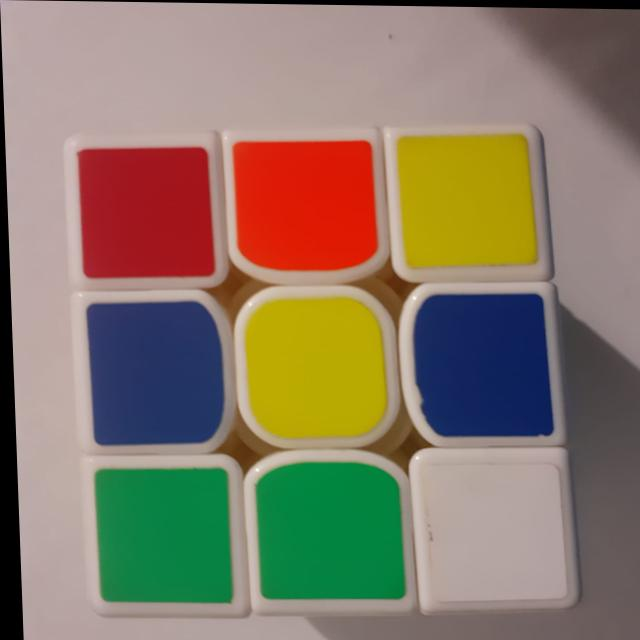Blue: (400, 283, 563, 442), (73, 292, 230, 449)
Green: (74, 456, 245, 614), (255, 455, 406, 608)
Orange: (229, 134, 383, 277)
Red: (64, 136, 226, 289)
White: (408, 451, 573, 612)
Yellow: (229, 289, 394, 446), (390, 129, 547, 277)
